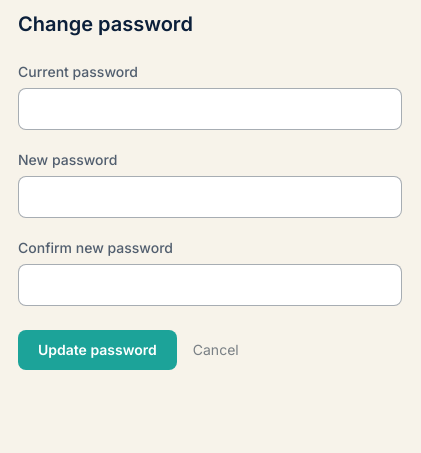
Test case: ChangePasswordPage › shows success message and redirects to /dashboard on success
Type "oldpass" into the password field labelled "Current password" at (210, 109), box 18,88 -> 402,130
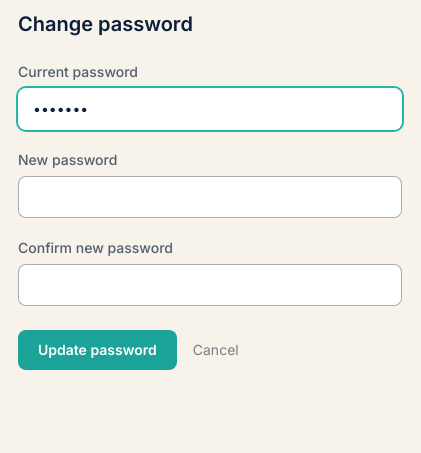
Type "newpass123" into the password field labelled "New password" at (210, 197), box 18,176 -> 402,218
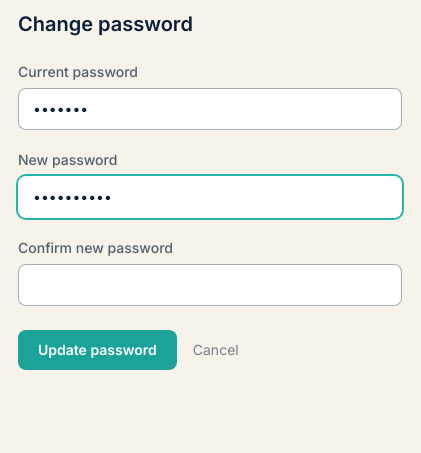
Type "newpass123" into the password field labelled "Confirm new password" at (210, 285), box 18,264 -> 402,306
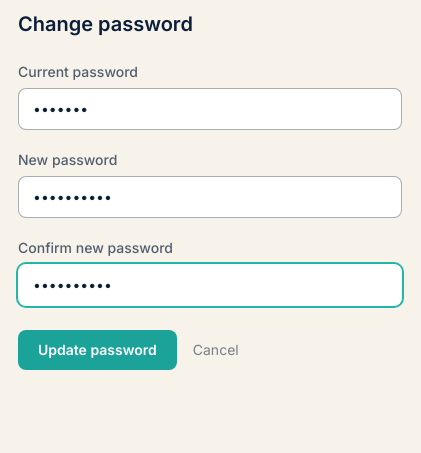
Click the button "Update password" at (97, 350), box 18,330 -> 177,370
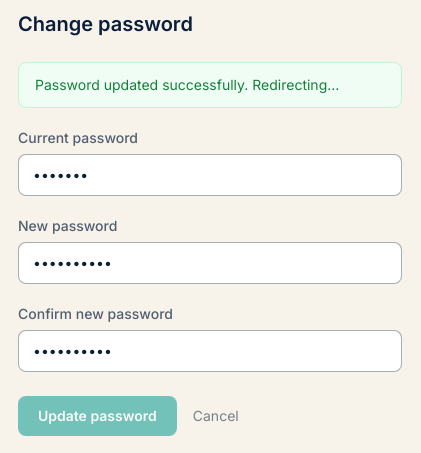
Expected: the message shows "Password updated successfully", 35,76 -> 339,93
